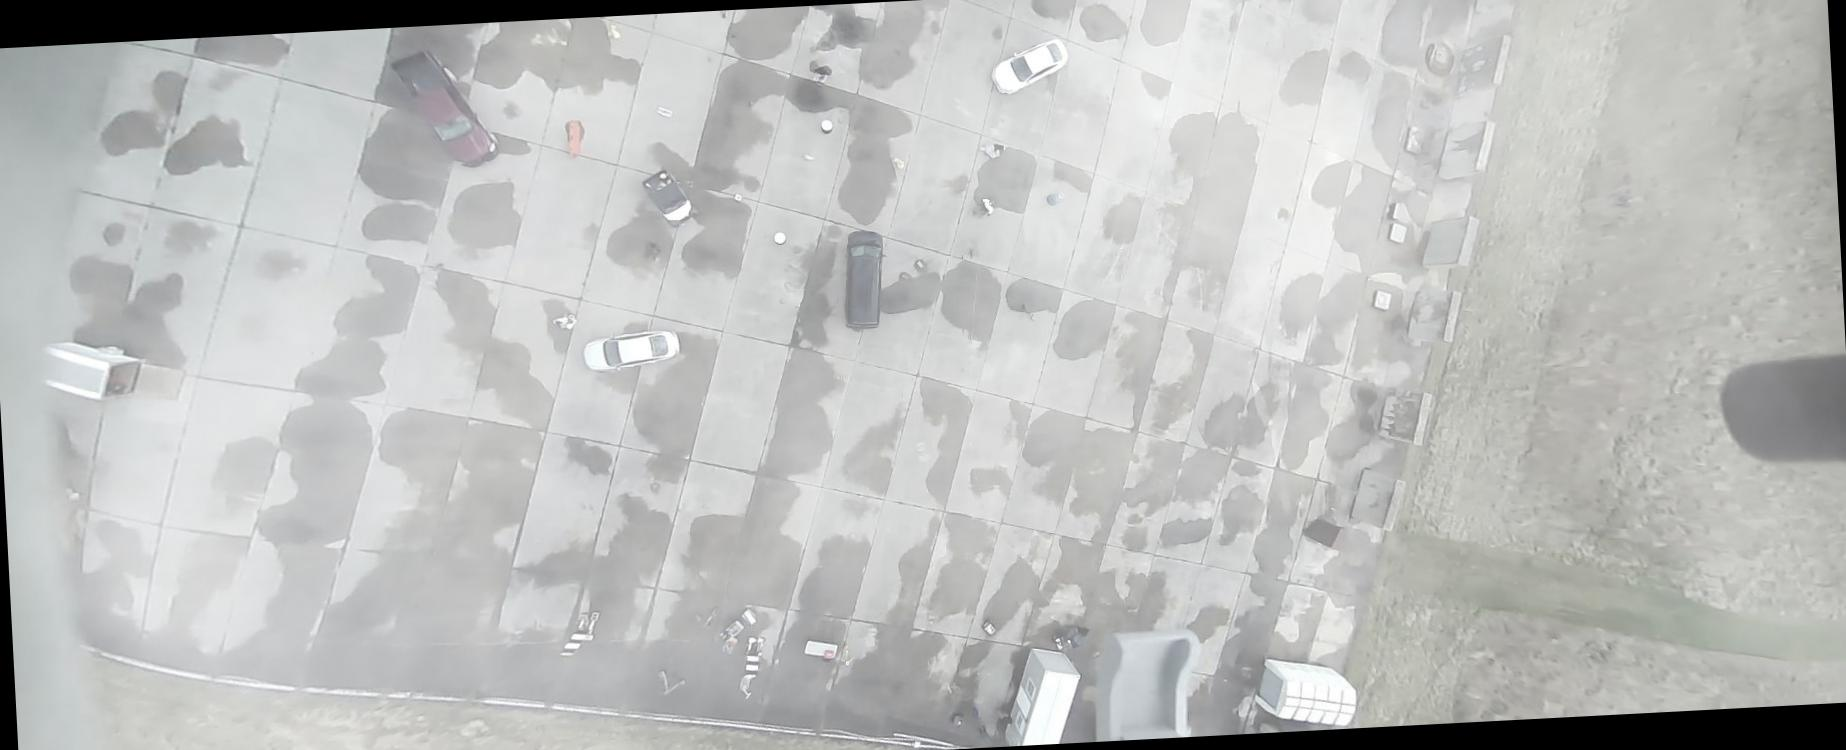vehicle: (391, 45, 499, 172), (839, 228, 890, 330), (582, 327, 683, 374), (989, 36, 1069, 95), (640, 166, 699, 230)
